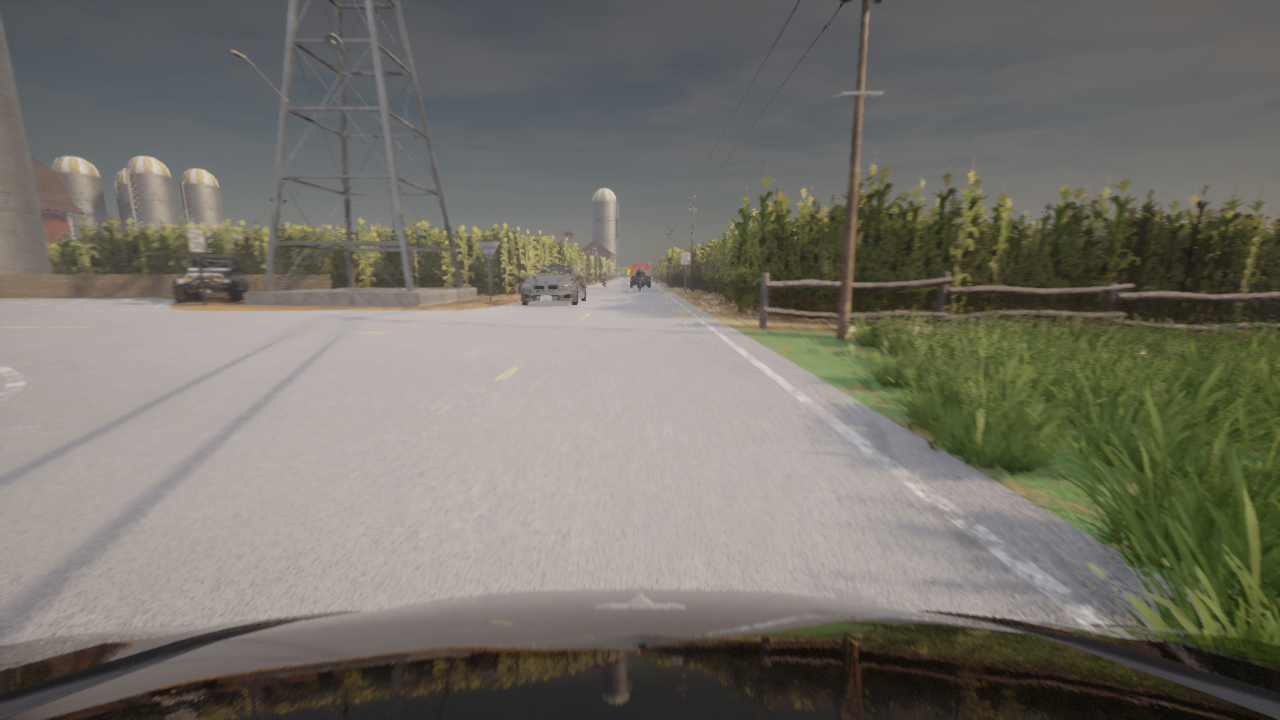cyclist: (0, 588, 1279, 719), (173, 255, 250, 302), (520, 263, 586, 305), (630, 270, 650, 286), (632, 265, 648, 274), (602, 276, 606, 287)
